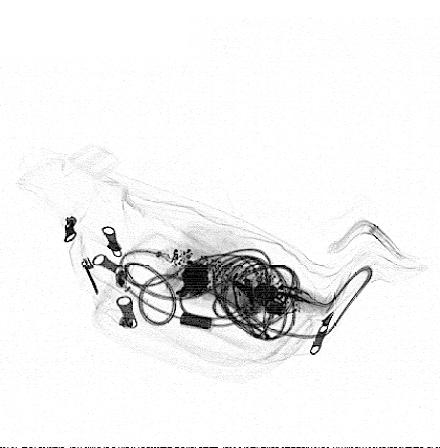Bullet: (229, 277, 287, 318)
